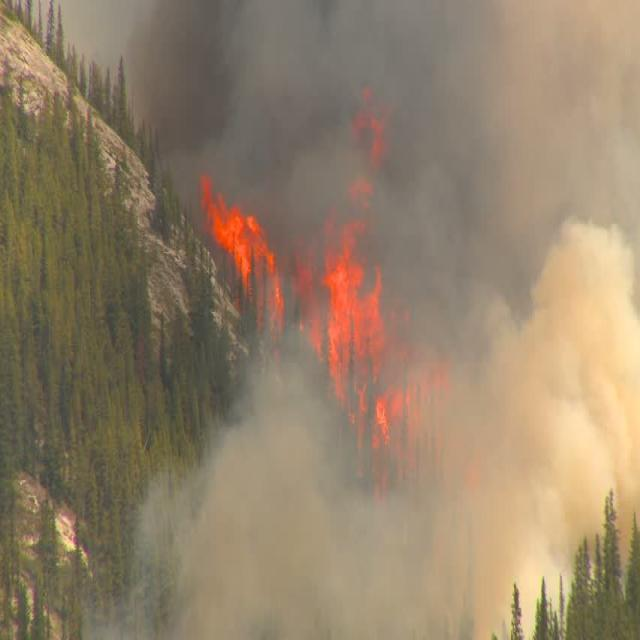Fire: (192, 131, 442, 542)
Smoke: (102, 0, 640, 640)
